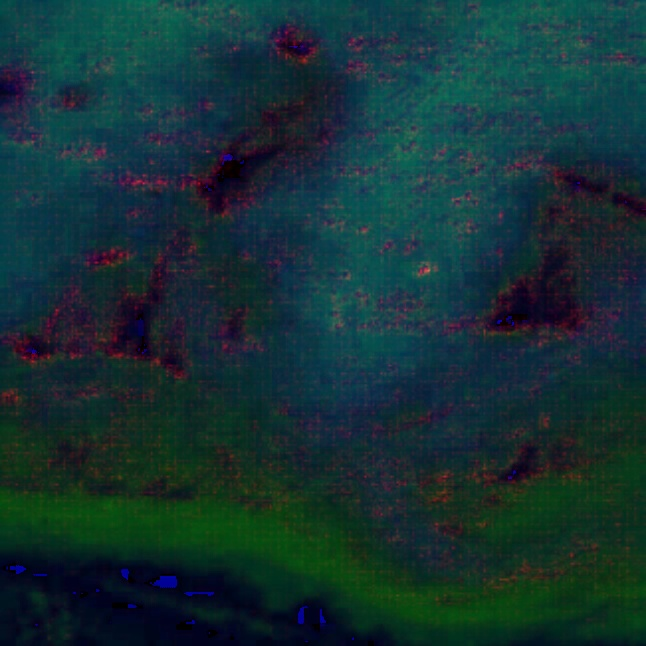rip_current: (210, 80, 542, 539)
